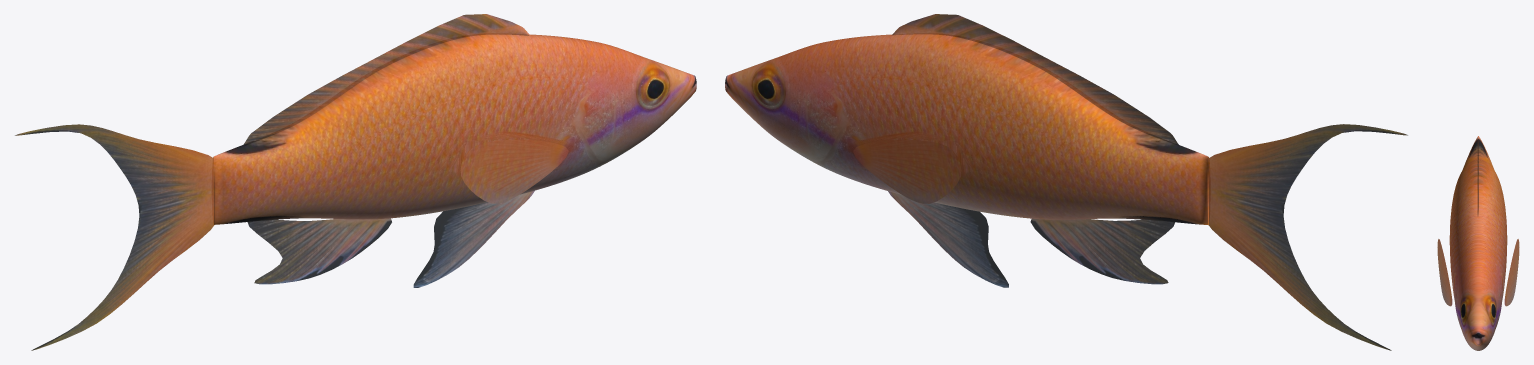
File: anthias.glb
The picture shows the model from 3 angles, left to right: view 1: azimuth 30°, elevation 25°; view 2: azimuth 150°, elevation 25°; view 3: azimuth 270°, elevation 25°; orthographic projection. The views are drawn at different scales.
Parts seen in each view (by area): view 1: anthias__body, anthias__fin_0, anthias__fin_2, anthias__fin_1, anthias__pectoral_1, anthias__fin_3, anthias__gill_1, anthias__eye_1; view 2: anthias__body, anthias__fin_0, anthias__fin_2, anthias__fin_1, anthias__pectoral_-1, anthias__fin_3, anthias__gill_-1, anthias__eye_-1; view 3: anthias__body, anthias__pectoral_1, anthias__pectoral_-1, anthias__gill_1, anthias__gill_-1, anthias__eye_1, anthias__eye_-1, anthias__fin_1.
Boxes of the visible parts, x1,y1,x2,y2 form: anthias__body: (213,34,696,224); anthias__fin_0: (15,124,214,350); anthias__fin_2: (247,218,391,284); anthias__fin_1: (242,14,530,146); anthias__pectoral_1: (460,139,568,203); anthias__fin_3: (413,190,534,287); anthias__gill_1: (565,80,615,176); anthias__eye_1: (642,70,667,105); anthias__body: (725,34,1208,224); anthias__fin_0: (1208,124,1407,350); anthias__fin_2: (1030,218,1174,284); anthias__fin_1: (891,14,1179,145); anthias__pectoral_-1: (853,139,961,203); anthias__fin_3: (888,191,1008,287); anthias__gill_-1: (806,80,856,176); anthias__eye_-1: (754,70,779,105); anthias__body: (1449,136,1507,350); anthias__pectoral_1: (1437,239,1452,306); anthias__pectoral_-1: (1504,239,1519,306); anthias__gill_1: (1454,261,1460,326); anthias__gill_-1: (1496,261,1502,326); anthias__eye_1: (1460,298,1469,322); anthias__eye_-1: (1487,298,1496,322); anthias__fin_1: (1477,139,1478,216).
Bounding box in the file's own units: 1.42 × 0.5195 × 0.2026.
3 materials, 3 textured.
